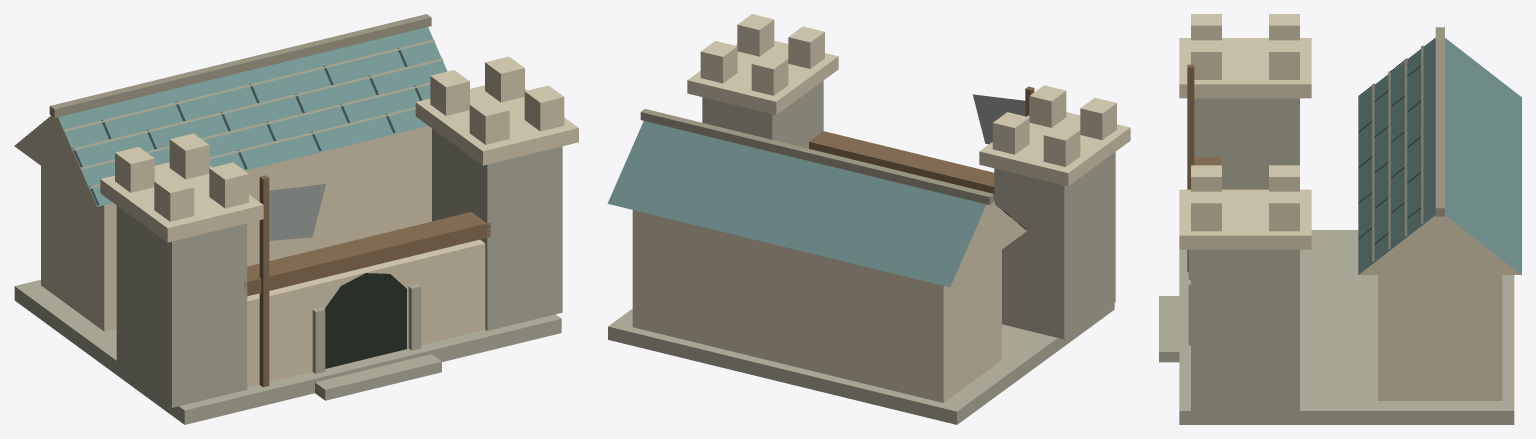
Rendered from barracks.glb.
The picture shows the model from 3 angles, left to right: view 1: azimuth 30°, elevation 25°; view 2: azimuth 150°, elevation 25°; view 3: azimuth 270°, elevation 25°; orthographic projection. The views are drawn at different scales.
Visible parts, largest first — view 1: Building; view 2: Building; view 3: Building.
Part boxes in pixels (left/top/right/bottom): Building: left=14, top=14, right=578, bottom=424; Building: left=607, top=14, right=1130, bottom=424; Building: left=1159, top=14, right=1521, bottom=424.
Size of the model in its own units: 60 by 32 by 46.6.
